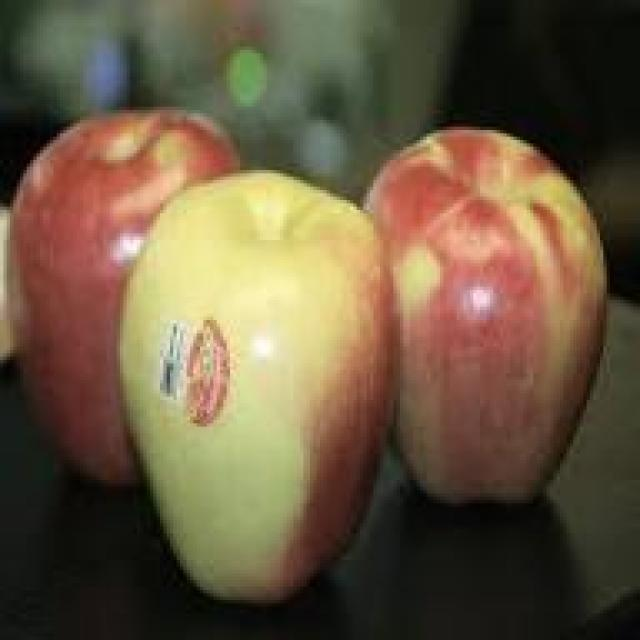apple: (127, 177, 390, 583), (360, 127, 617, 540), (13, 113, 240, 470)
